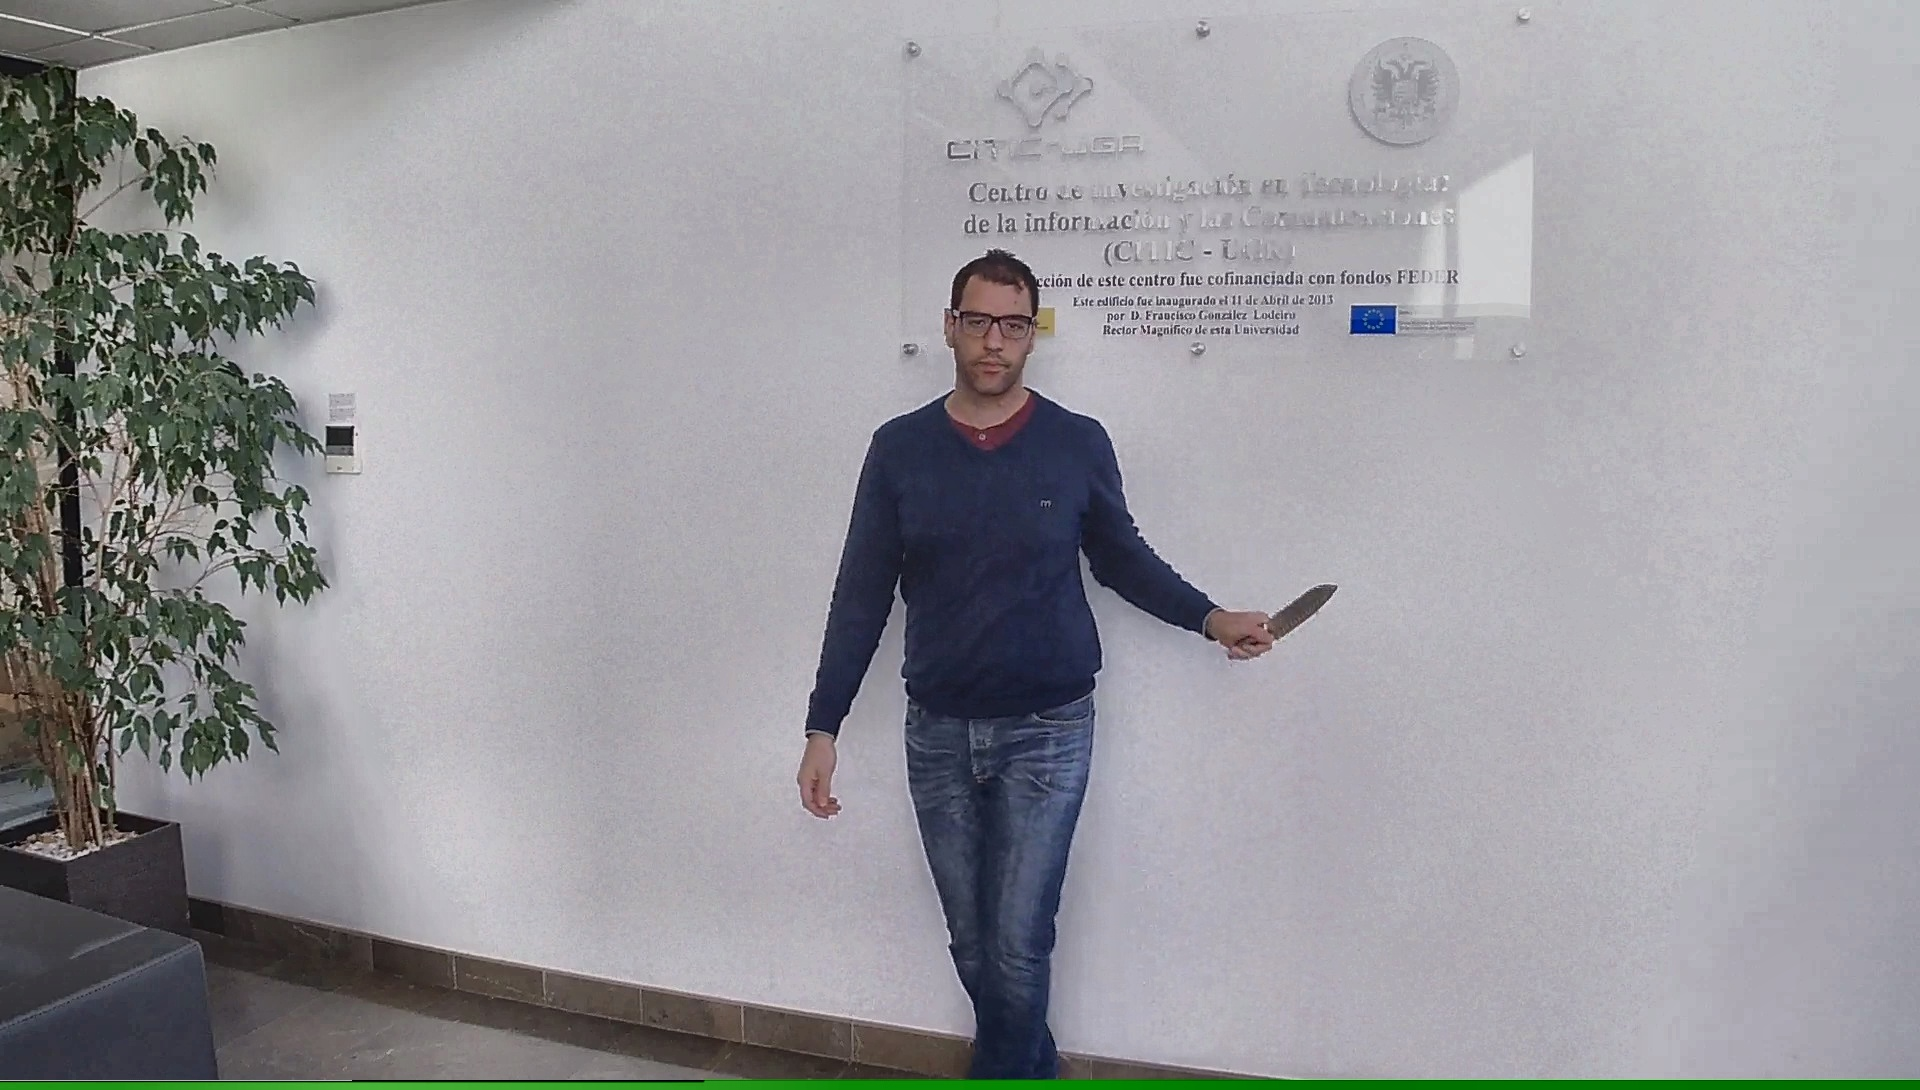knife: (1222, 576, 1348, 666)
